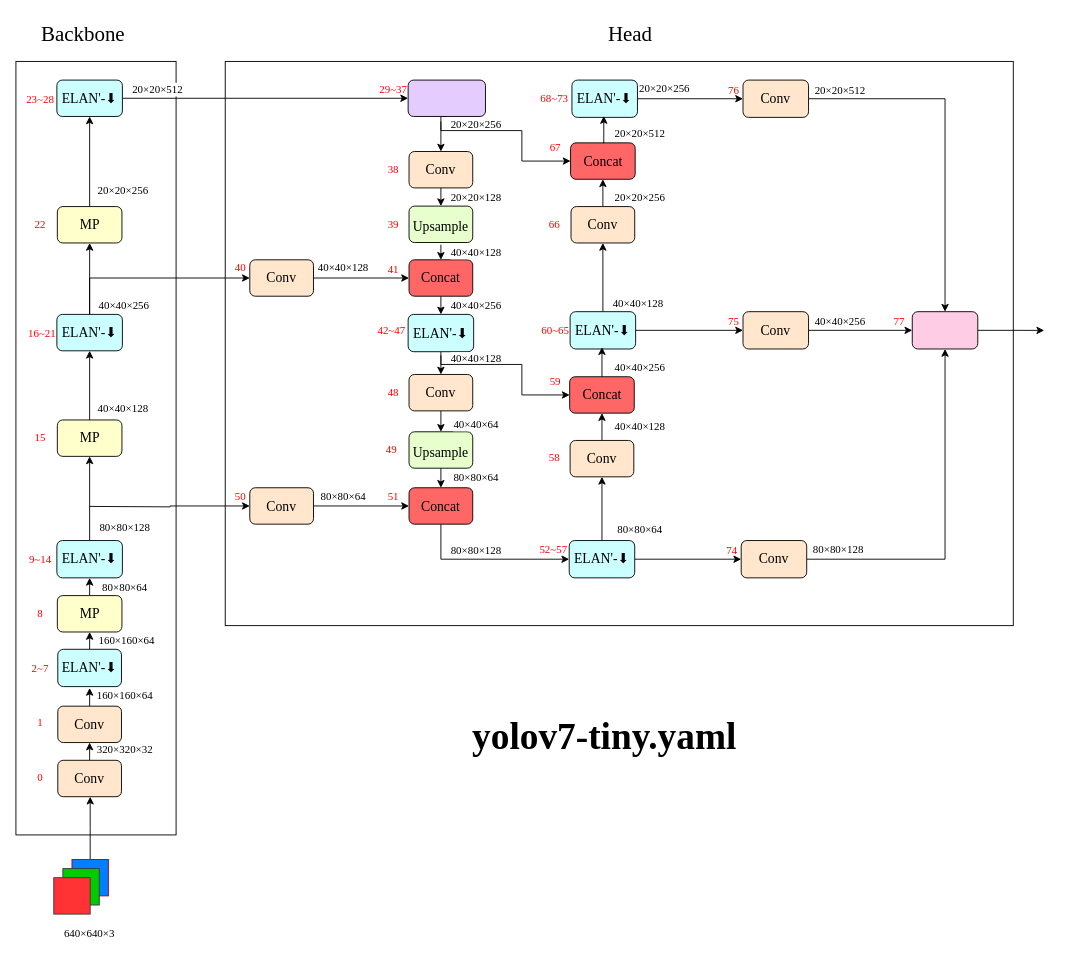
The diagram is 1067 pixels wide and 963 high, and some of its shapes have lost their labels. Each missing label, with the box of its shape:
Detect: (911, 311, 978, 349)
SPPCSPC-⬇: (407, 79, 485, 116)
